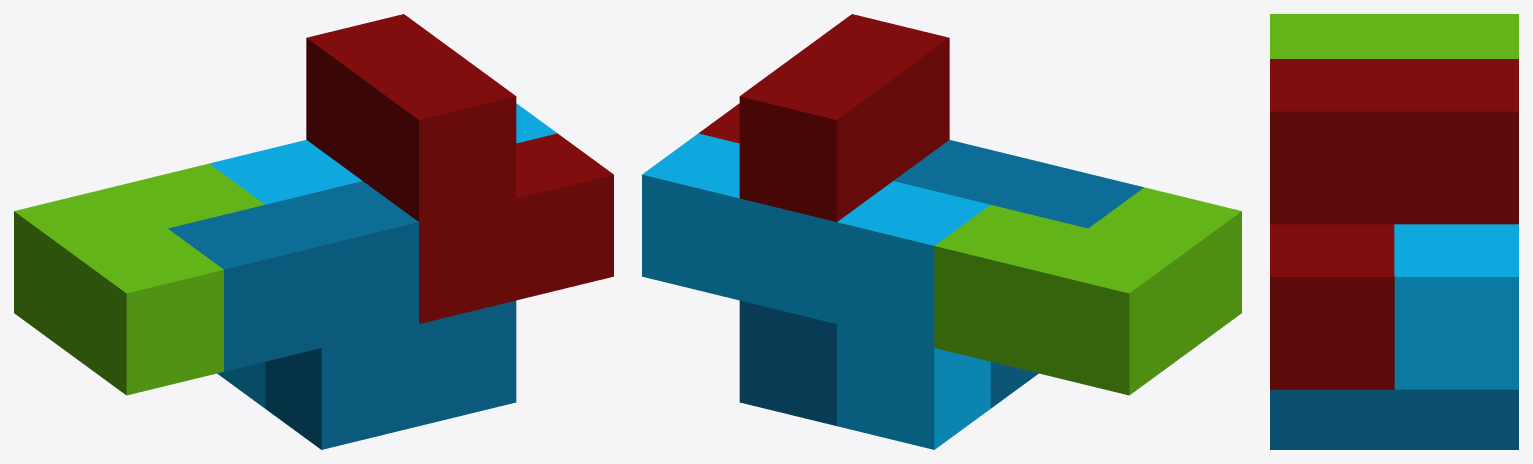
3 renders of one model, left to right at view 1: azimuth 30°, elevation 25°; view 2: azimuth 150°, elevation 25°; view 3: azimuth 270°, elevation 25°, orthographic. The views are drawn at different scales.
Parts seen in each view (by area): view 1: mergedBlocks(Clone); view 2: mergedBlocks(Clone); view 3: mergedBlocks(Clone).
Boxes of the visible parts, <box> form: mergedBlocks(Clone): <box>14,14,613,449</box>; mergedBlocks(Clone): <box>642,14,1241,449</box>; mergedBlocks(Clone): <box>1270,14,1518,449</box>.
Bounding box in the file's own units: 5 × 3 × 2.
Materials: 4 (4 with a texture image).
